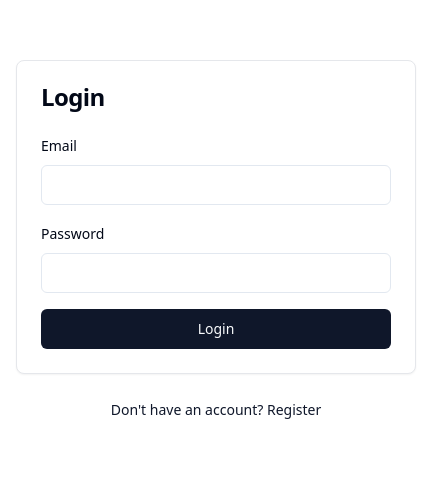
Auth Page - Switch Between Login and Register › switches from login to register and back to login
Expected: the text "Login" is shown, [198,319,235,338]
Click the button "Don't have an account? Register".
click(217, 410)  # box [95,390,338,430]
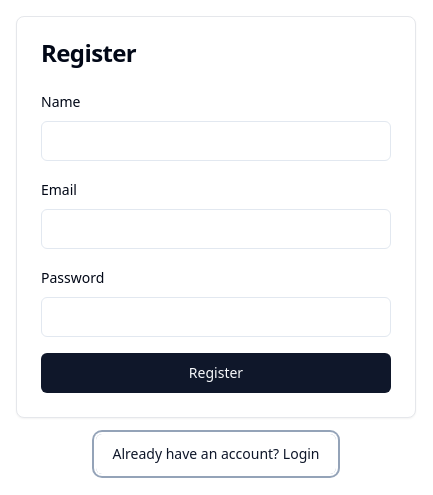
Expected: the text "Register" is shown, [189,363,243,382]
Expected: the button "Already have an account? Login" is shown
Click the button "Already have an account? Login".
click(217, 454)  # box [97,434,336,474]
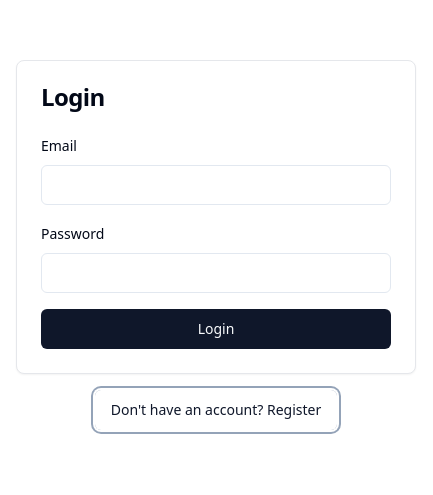
Expected: the text "Login" is shown, [198,319,235,338]
